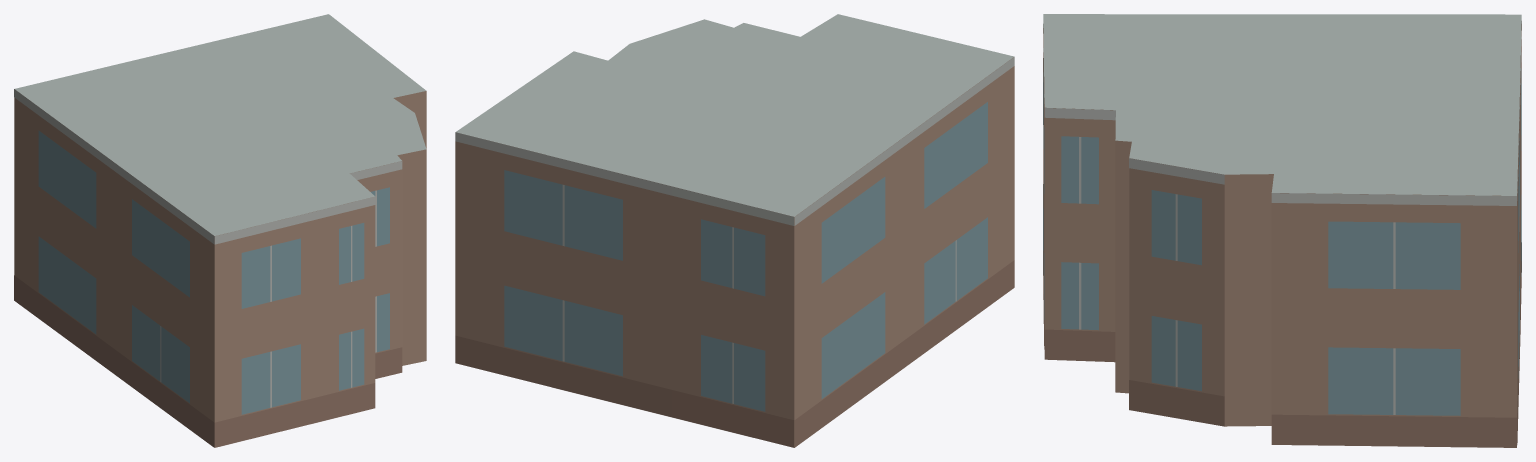
The model's file is survey-upis-32960563.glb.
3 views of the same model, side by side, from view 1: azimuth 30°, elevation 25°; view 2: azimuth 150°, elevation 25°; view 3: azimuth 270°, elevation 25° (orthographic). The views are drawn at different scales.
Visible parts, largest first — view 1: survey-upis-32960563.tmp; view 2: survey-upis-32960563.tmp; view 3: survey-upis-32960563.tmp.
Boxes of the visible parts, bbox=[...] form: survey-upis-32960563.tmp: bbox=[14, 14, 426, 447]; survey-upis-32960563.tmp: bbox=[455, 14, 1014, 447]; survey-upis-32960563.tmp: bbox=[1043, 14, 1521, 447].
Bounding box in the file's own units: 9.46 × 6.1 × 10.51.
